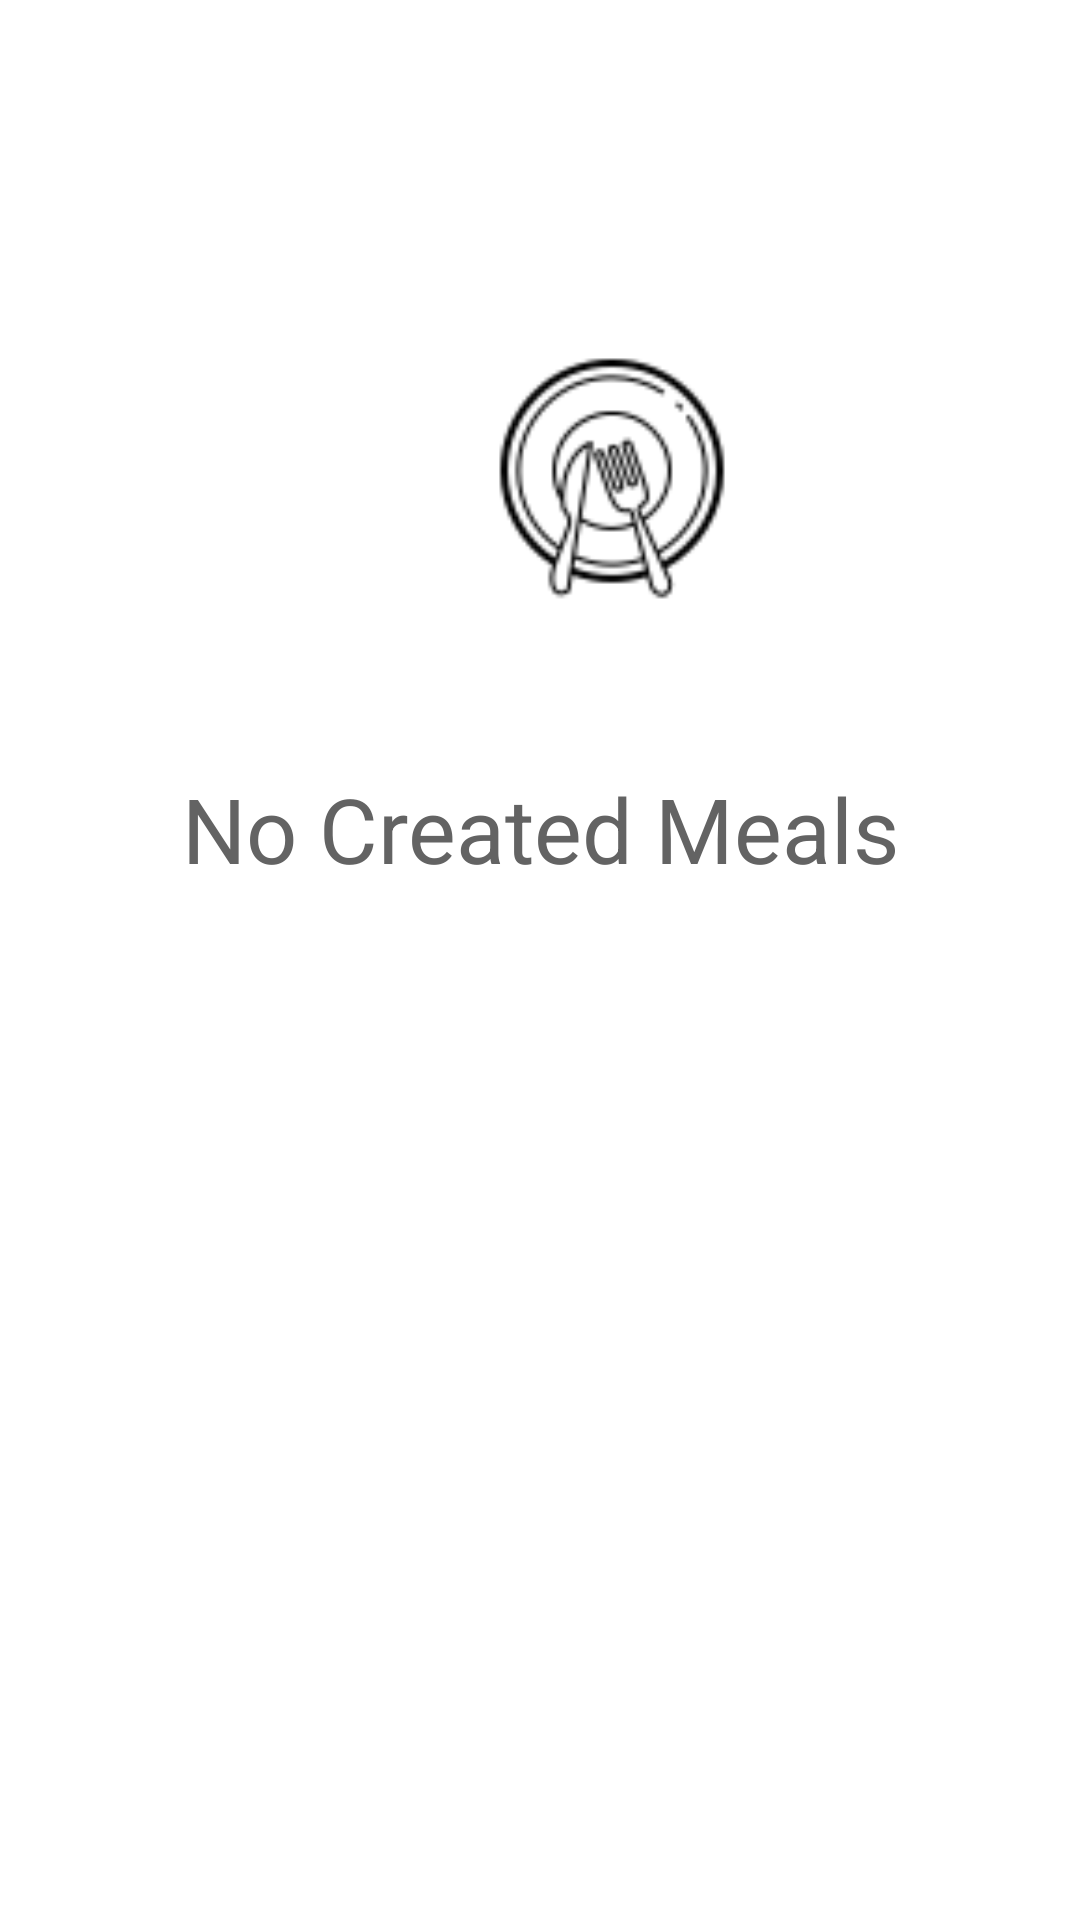

Locate icon controls on the screen. Image size 1080x1920, boxes as (x1, y1, x2, y2).
empty created meal: (499, 358, 725, 599)
